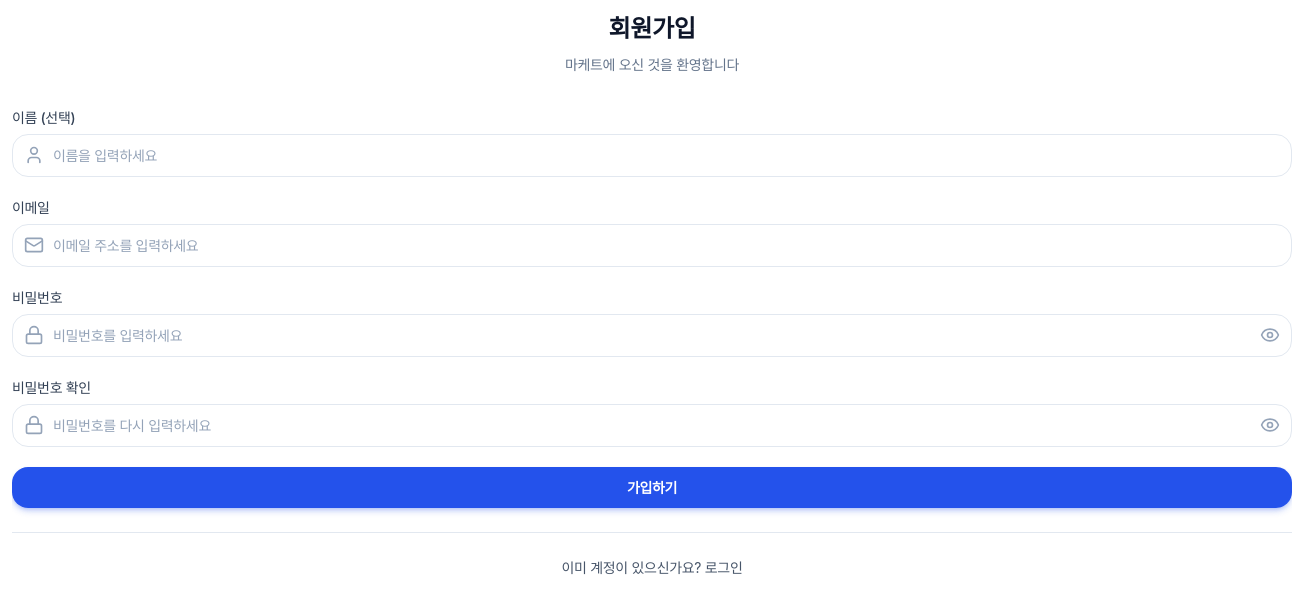
SignUpForm › 유효성 검사 › 유효하지 않은 이메일 형식이면 에러 메시지를 표시한다
Type "invalid-email" into the field labelled "이메일". click: [652, 245]
box: [12, 224, 1292, 267]
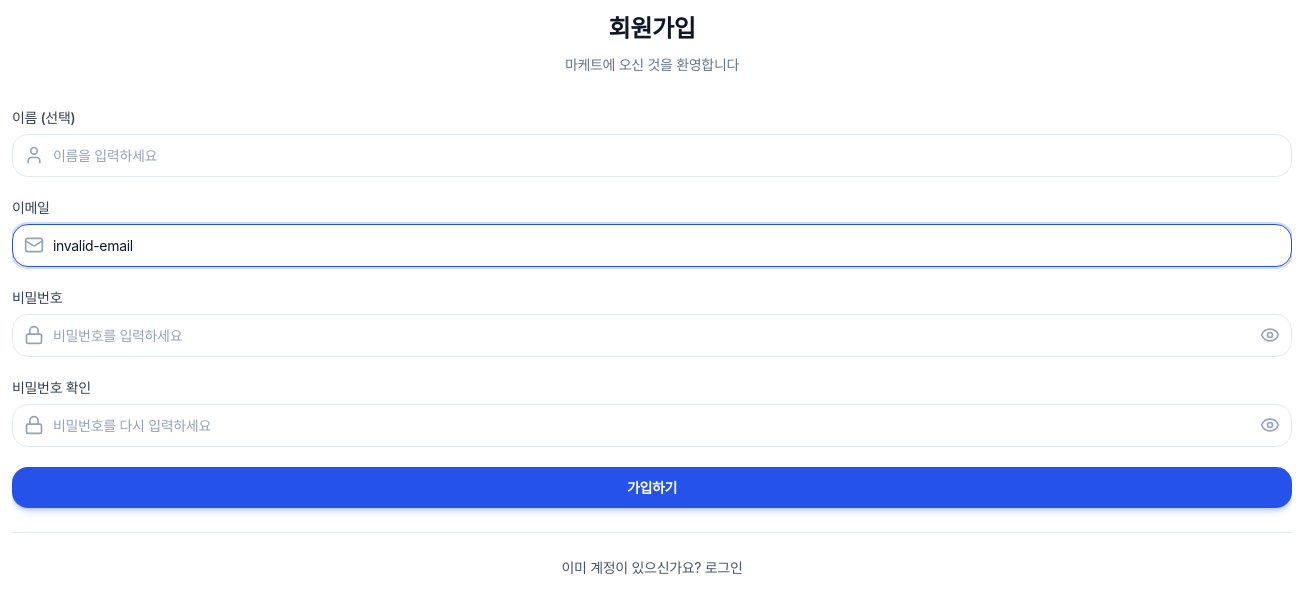
Leave the field labelled "이메일", box [12, 224, 1292, 267]
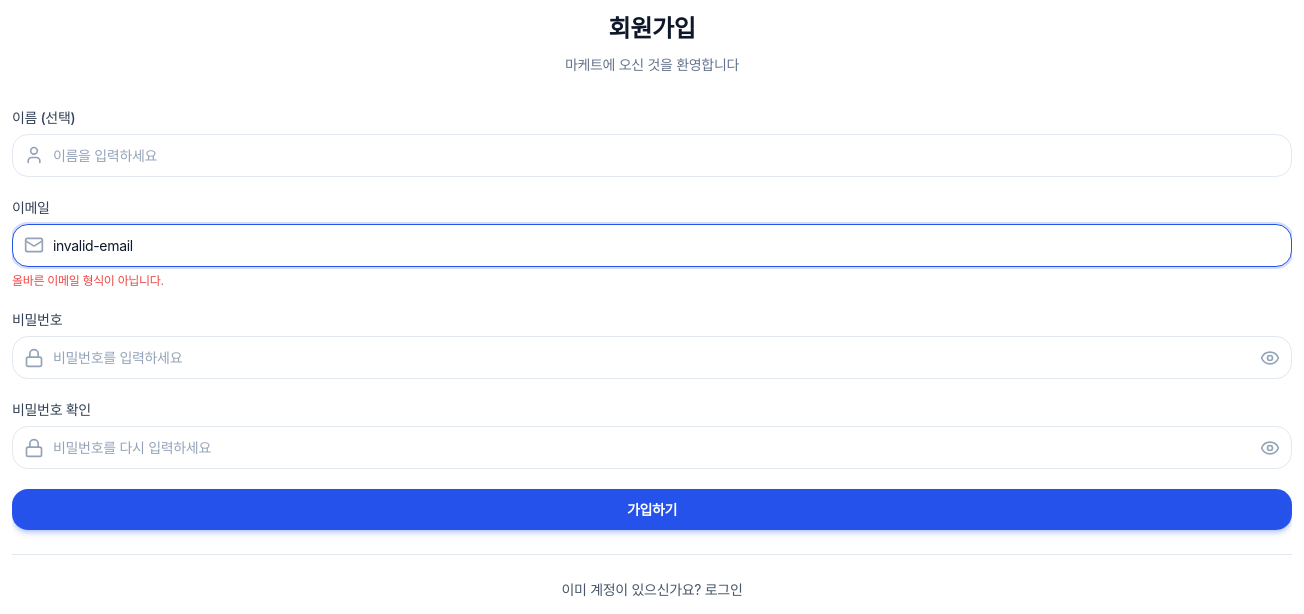
expect the text "올바른 이메일 형식이 아닙니다." is shown: met, box [12, 273, 164, 288]
